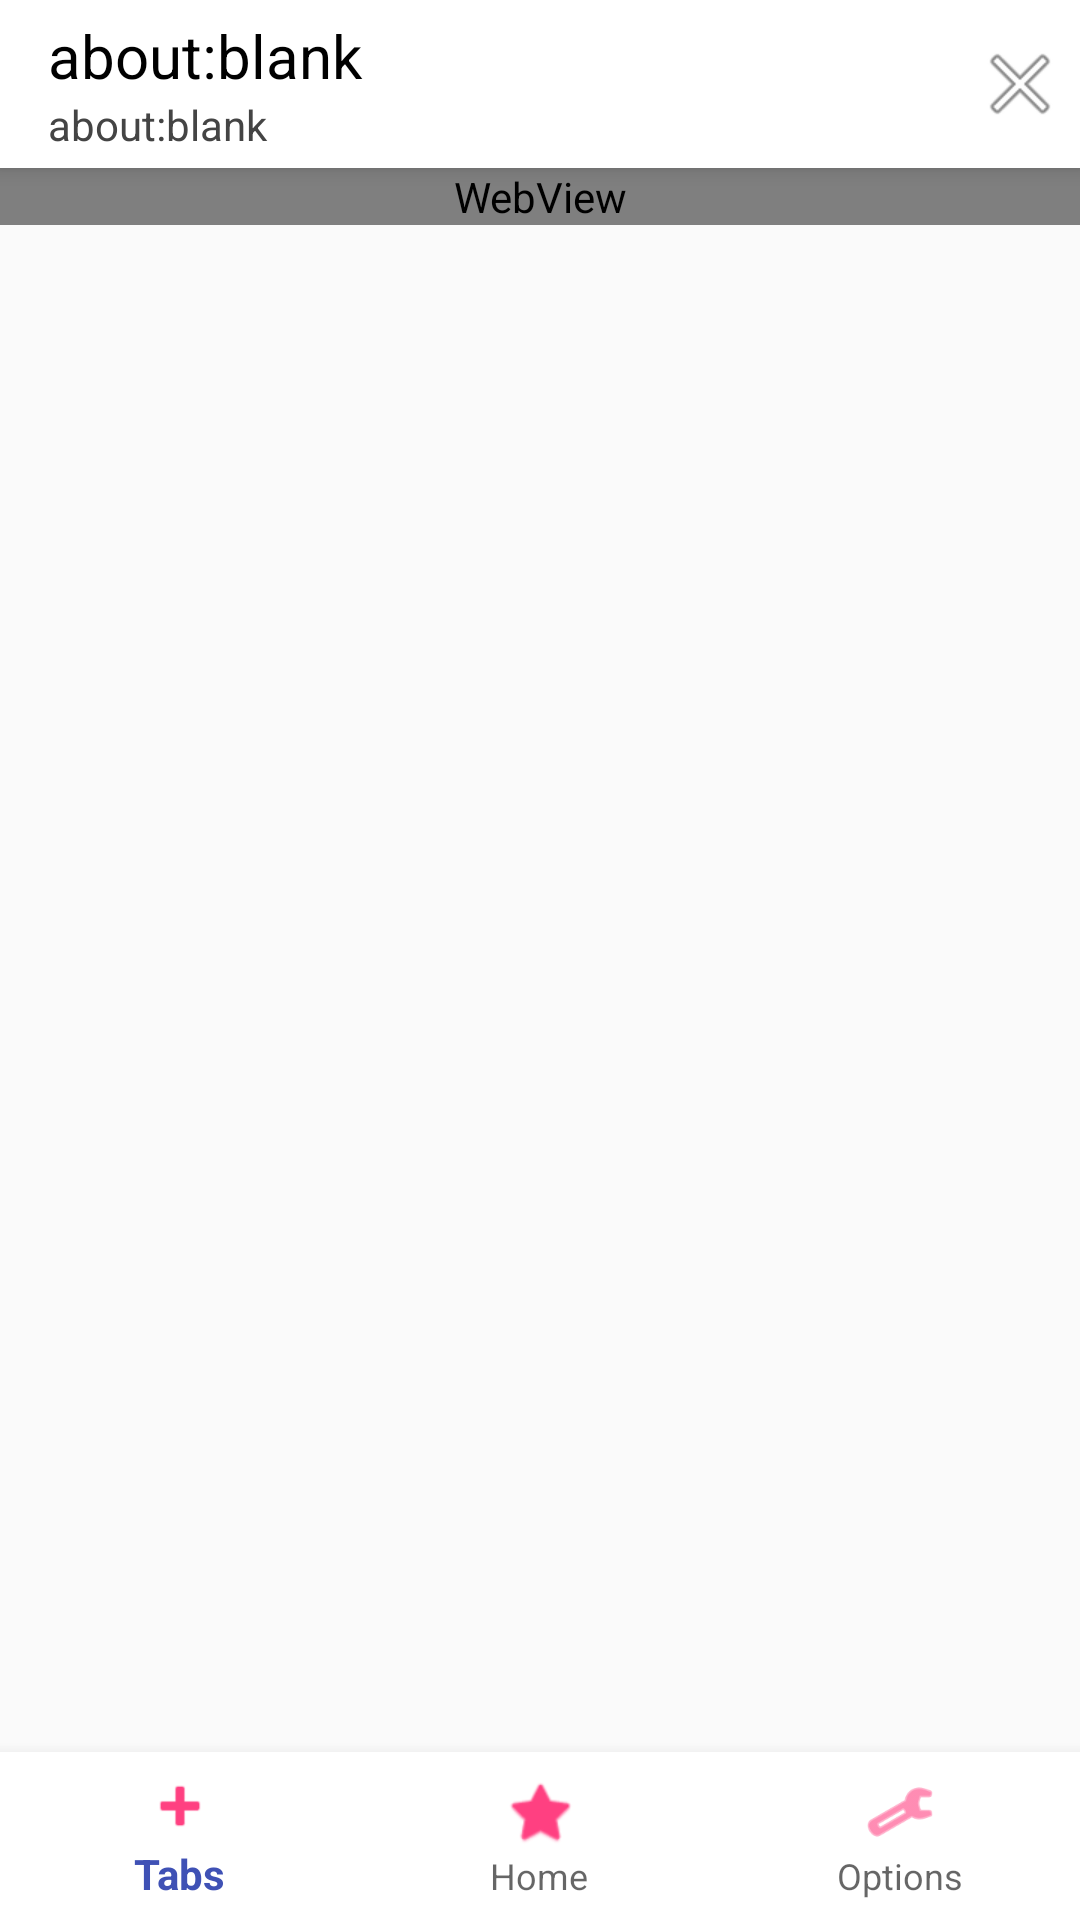

Icons on this 1080 x 1920 Android screen, each with the point to tap as point (x, y):
close clear cancel: point (1020, 84)
